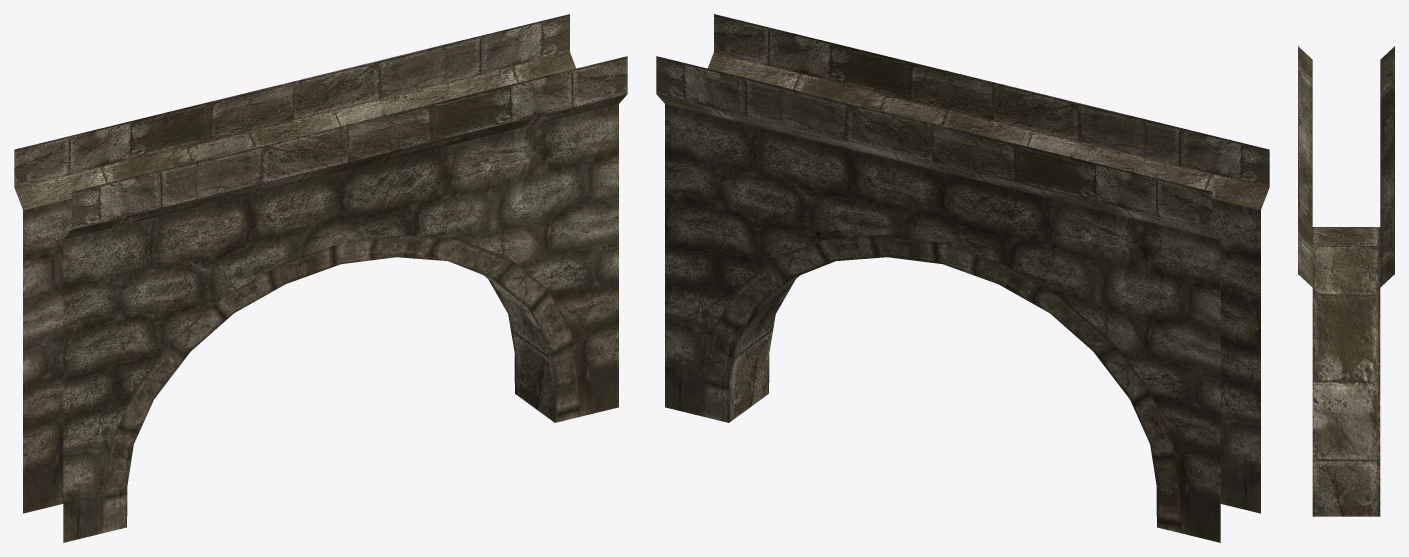
The model's file is welder_convex_arch.DAE.
3 renders of one model, left to right at view 1: azimuth 30°, elevation 25°; view 2: azimuth 150°, elevation 25°; view 3: azimuth 270°, elevation 25°, orthographic. The views are drawn at different scales.
Parts seen in each view (by area): view 1: Box001; view 2: Box001; view 3: Box001.
Part boxes in pixels (x1=…): Box001: x1=14, y1=14, x2=627, y2=542; Box001: x1=656, y1=14, x2=1269, y2=542; Box001: x1=1298, y1=46, x2=1394, y2=516.
Bounding box in the file's own units: 4 × 2.46 × 0.717.
